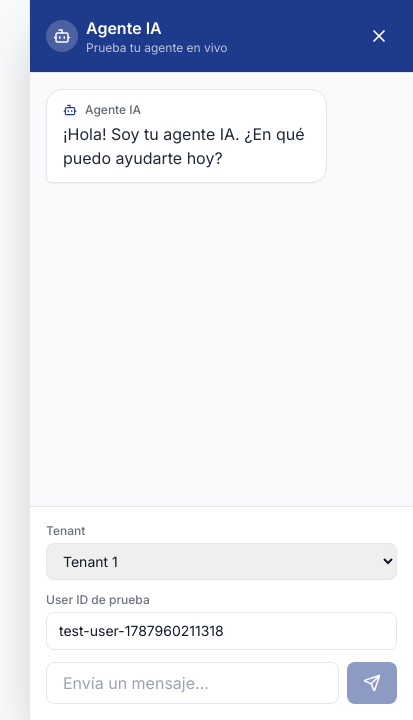
Scenario: ChatSimulator › sends a message and renders assistant response
Type "Hola" into the field with placeholder "Envía un mensaje..." at (192, 683), box [46,662,339,704]
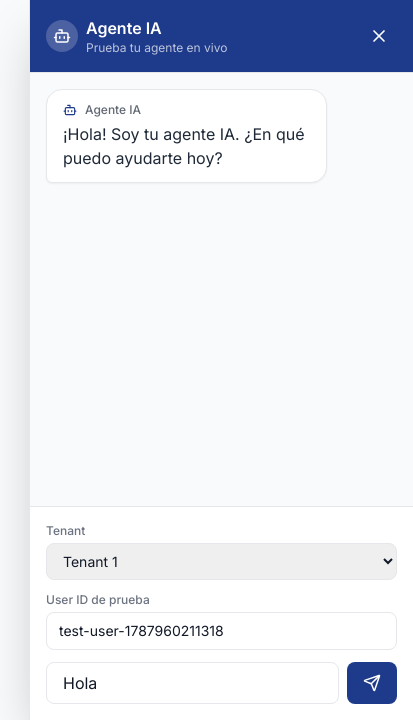
Press Enter in the 2nd field with placeholder "Envía un mensaje...", box [46,662,339,704]
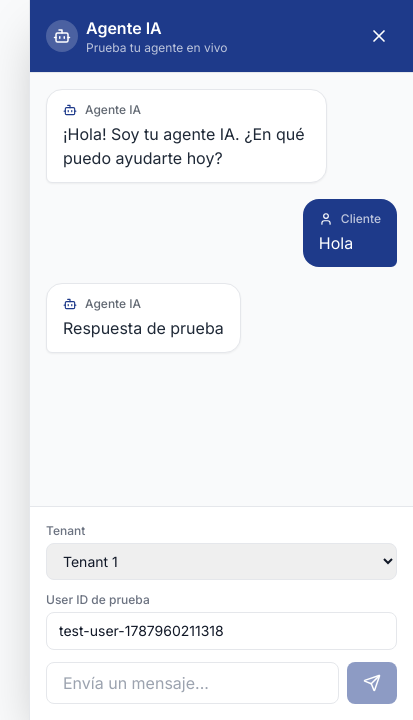
Expected: the text "Respuesta de prueba" is shown, [63,316,224,340]
